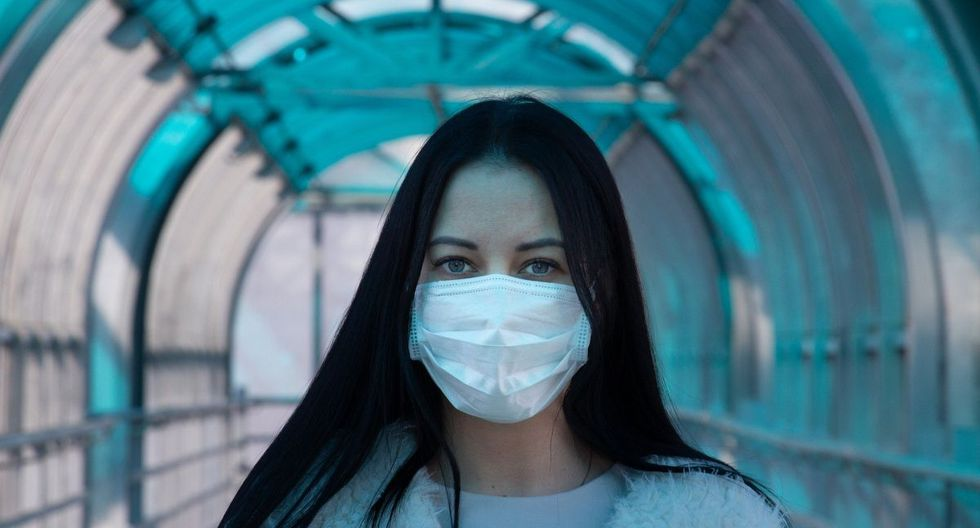with_mask: (365, 105, 656, 461)
